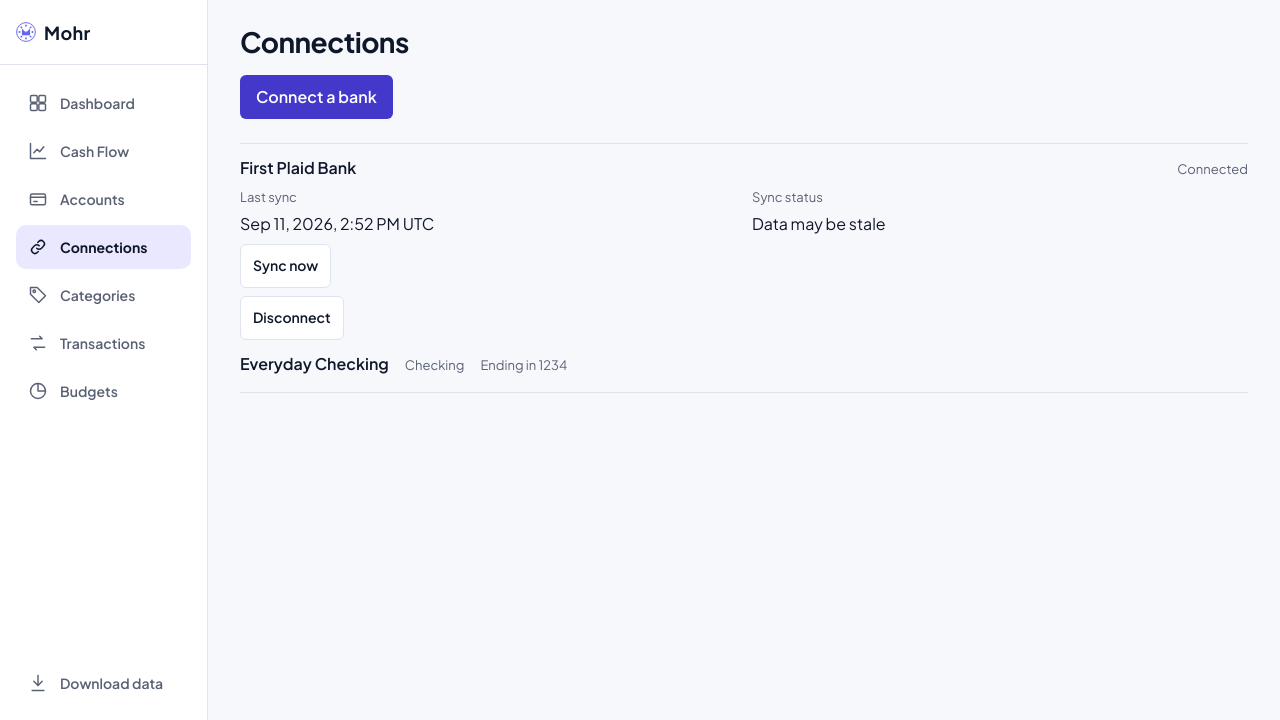
Test case: connections manual sync › shows an honest still-importing state for a 202 sync and still refetches
Expected: the heading "First Plaid Bank" is shown, [240, 156, 356, 180]
Click the button with aria-label "Sync now for First Plaid Bank" at (286, 266), box [240, 244, 331, 288]
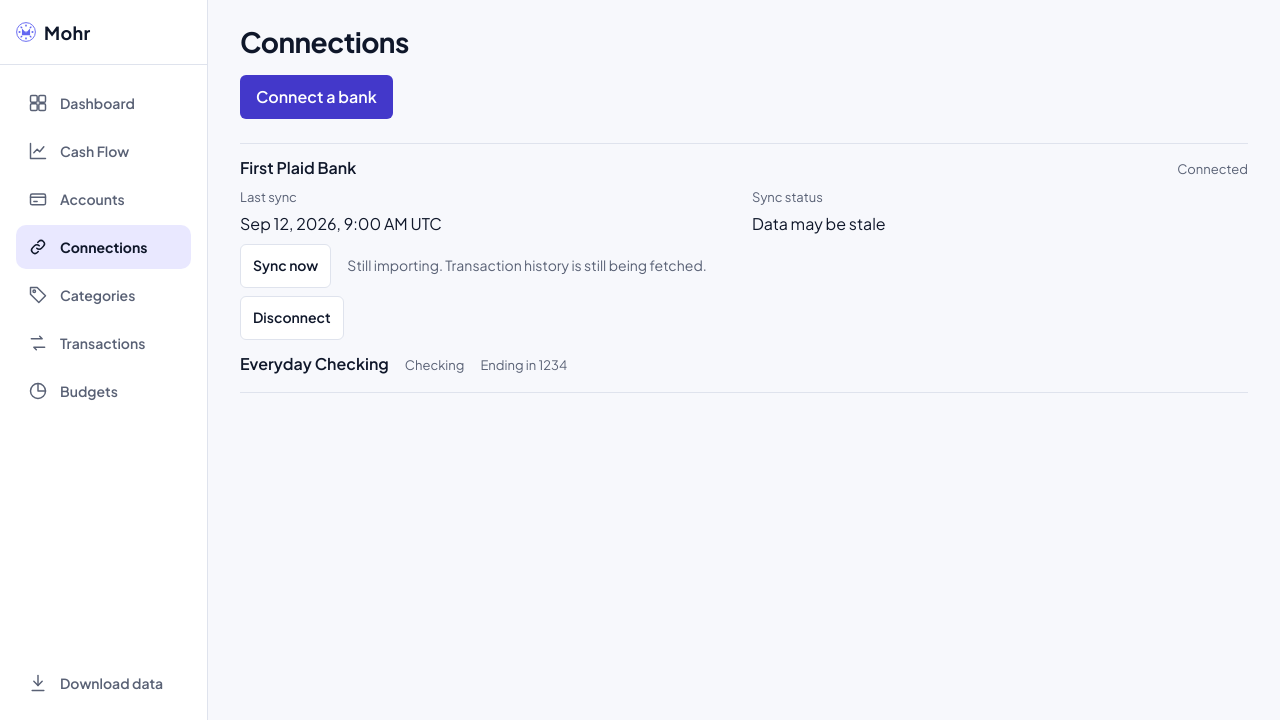
Now the text "Sep 12, 2026, 9:00 AM UTC" is shown, box [240, 212, 442, 234]
Now the message shows "Still importing", box [347, 256, 707, 274]
